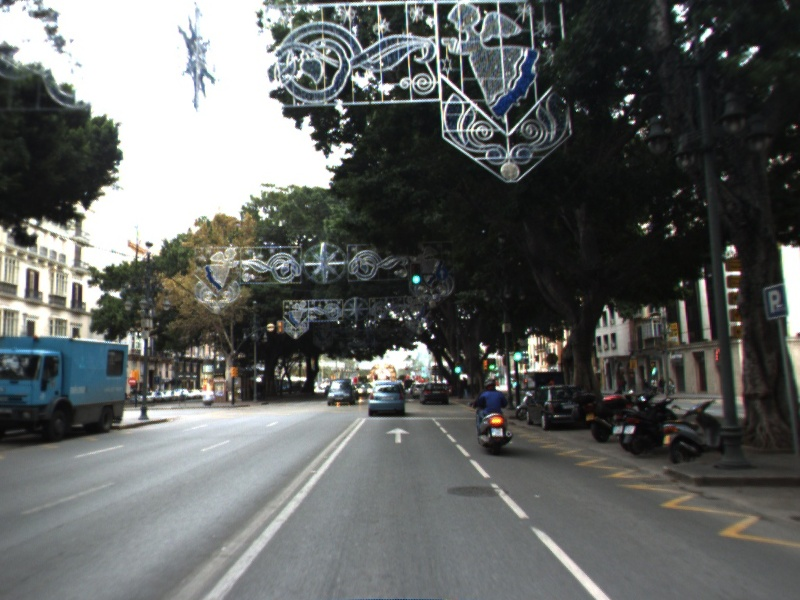STRAIGHT: (384, 425, 412, 445)
